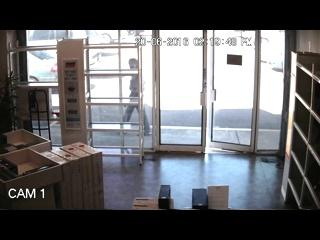Normal: (120, 58, 150, 136)
